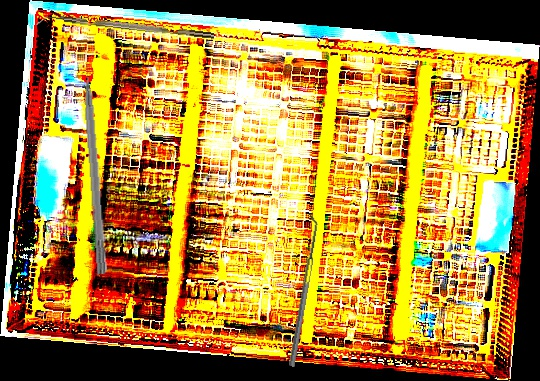Chopper: (35, 11, 215, 47)
Pusher: (80, 50, 110, 275)
Spatula Surgical: (282, 213, 322, 367)
